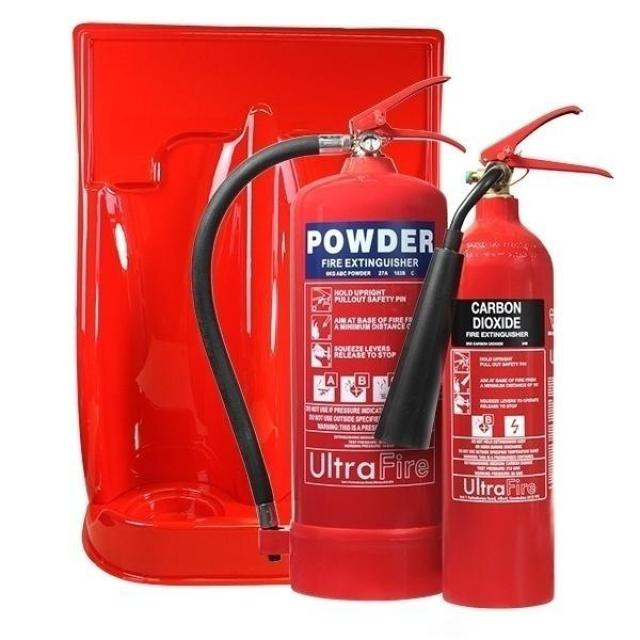fire_extinguisher: (184, 71, 470, 604), (369, 101, 617, 614)
